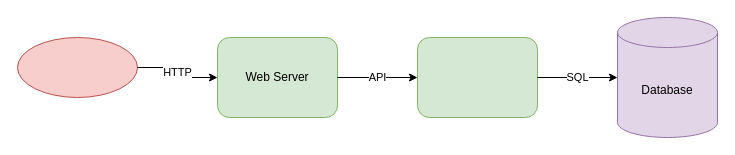
Image size: 735x155. Some labels were removed from this diagram. Here are the shapes that lost their labels. From the top down, the centre of each, then its label:
At point 77,67: "Load Balancer".
At point 477,77: "HighQualityTest".
